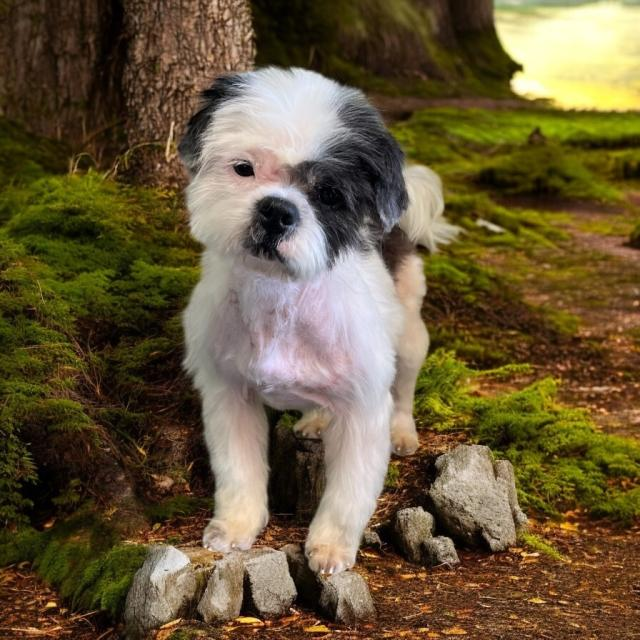shih_tzu_dog: (162, 53, 420, 289)
